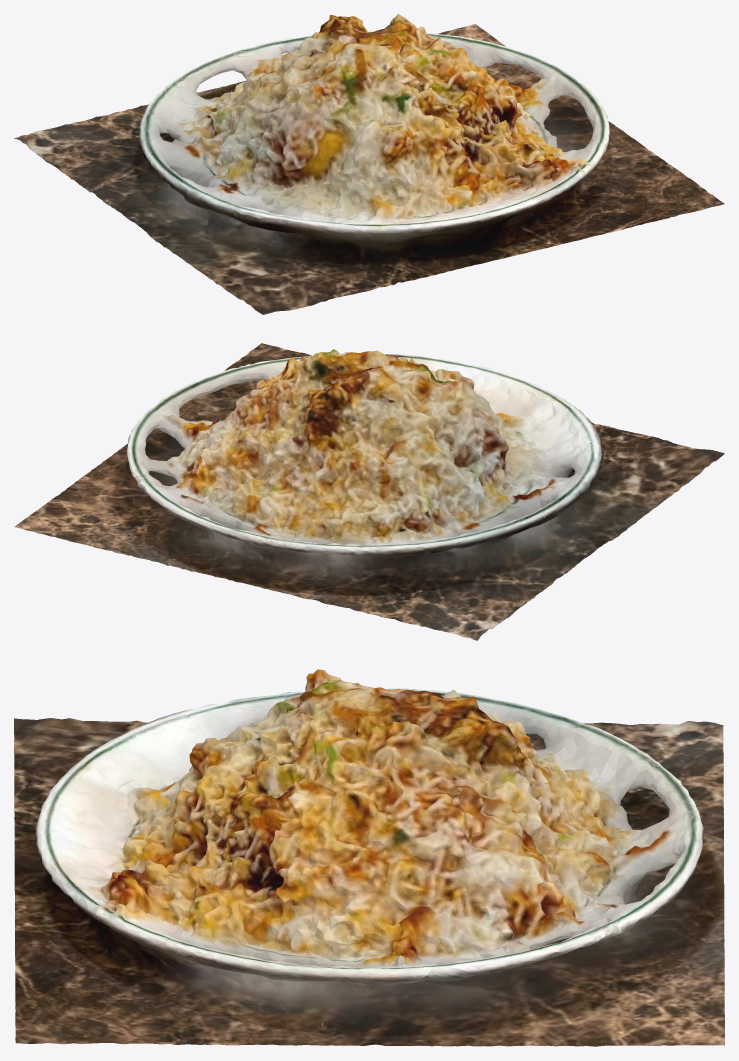
The model's file is chicken-biryani.glb.
3 renders of one model, top to bottom at view 1: azimuth 30°, elevation 25°; view 2: azimuth 150°, elevation 25°; view 3: azimuth 270°, elevation 25°, orthographic. The views are drawn at different scales.
Visible parts, largest first — view 1: bili_0; view 2: bili_0; view 3: bili_0.
Boxes of the visible parts, left/top/right/bottom form: bili_0: left=14, top=14, right=724, bottom=314; bili_0: left=14, top=343, right=724, bottom=640; bili_0: left=14, top=669, right=724, bottom=1046.
Size of the model in its own units: 0.32 by 0.091 by 0.2979.
1 material, 1 textured.
